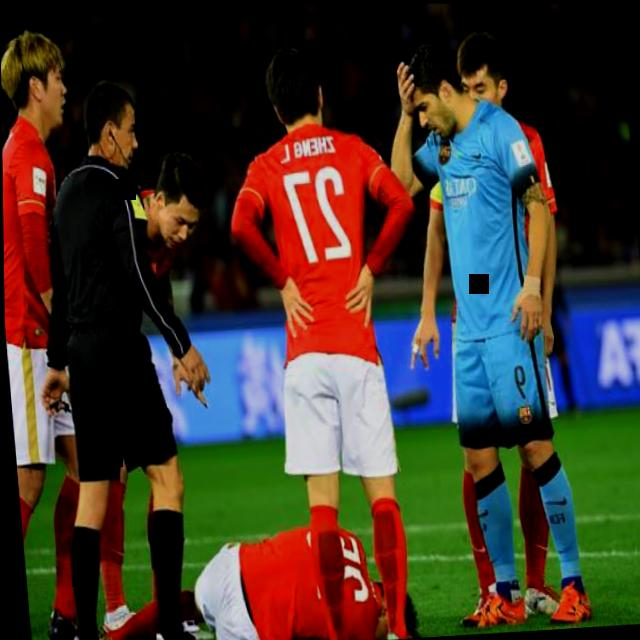Fall-Detected: (78, 488, 413, 640)
